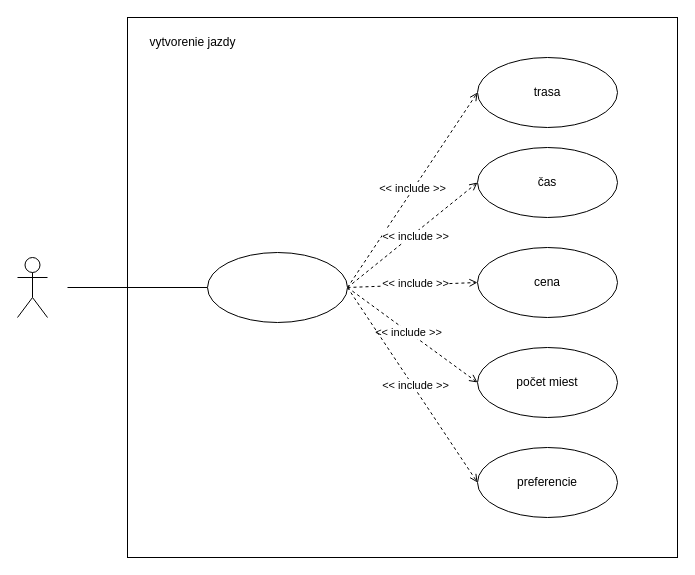
Some shapes in this 695 by 575 pixel diagram are drawn without their labels. Each missing label, with the box of its shape:
vytvoriť ponuku jazdy: (206, 252, 348, 322)
šofér: (16, 256, 48, 318)
